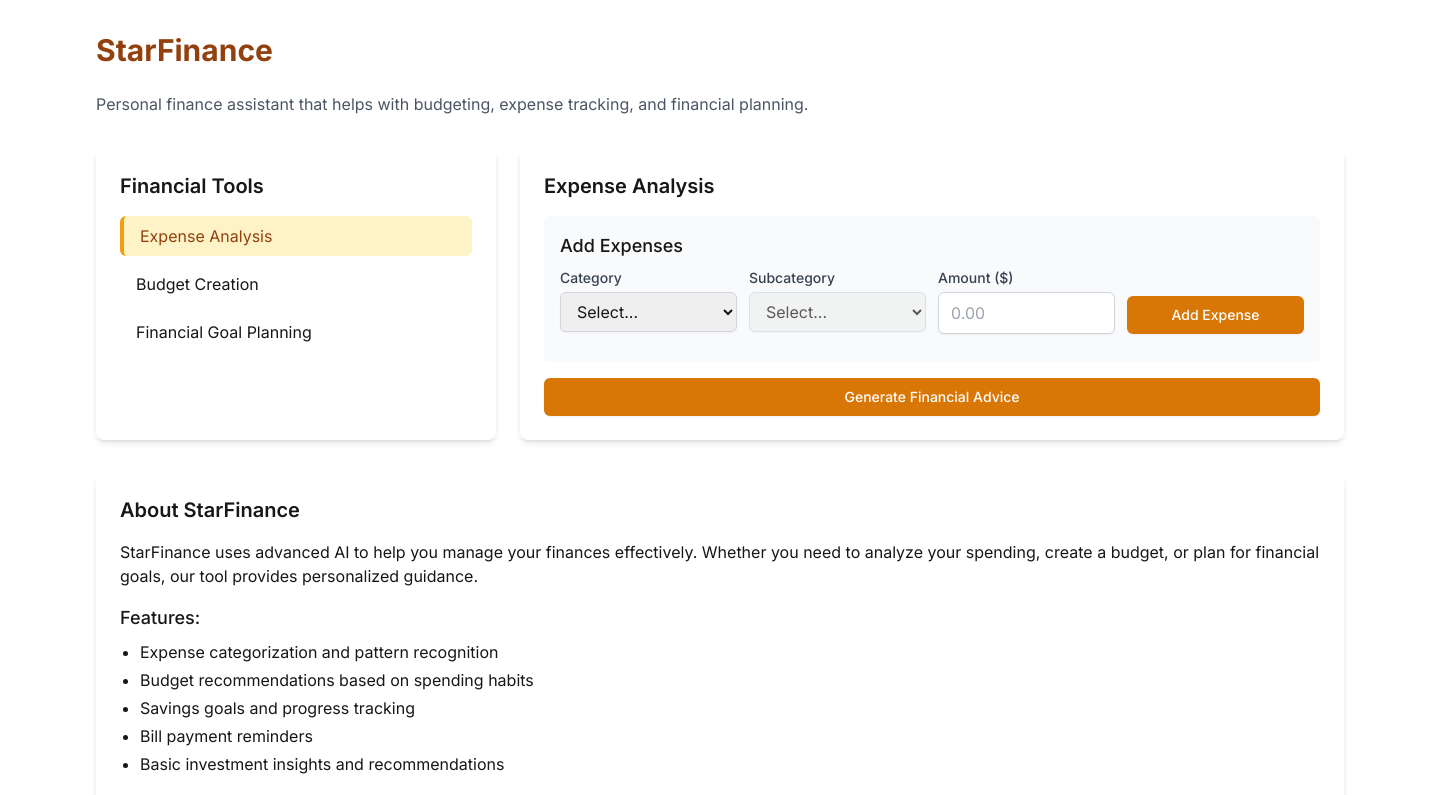
Scenario: StarFinance Component › adds and removes expenses
// Select a category
Select "Food" in the dropdown labelled "Category" at (648, 312), box [560,292,737,332]
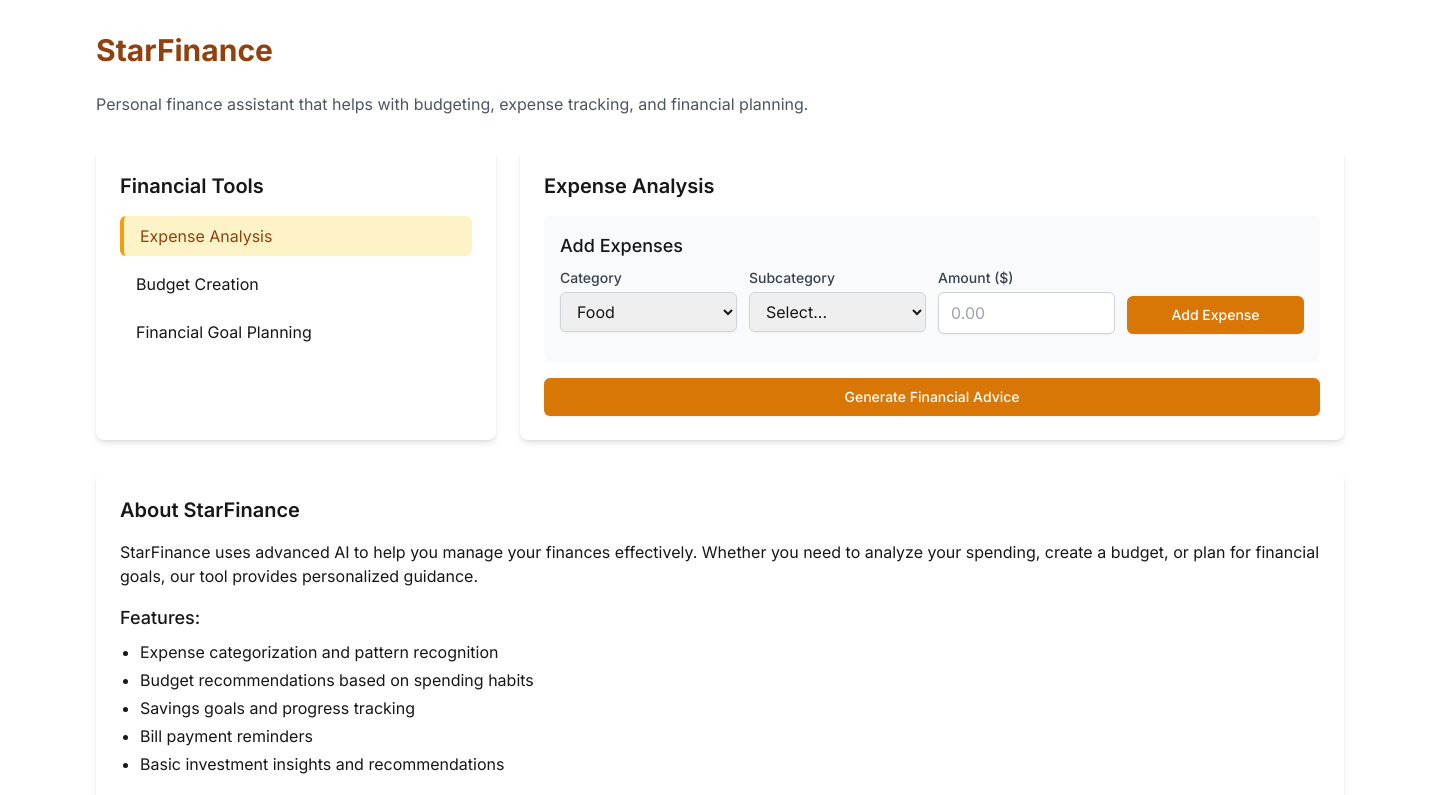
// Enter an amount
Type "50" into the number field labelled "Amount ($)" at (1026, 313), box [938,292,1115,334]
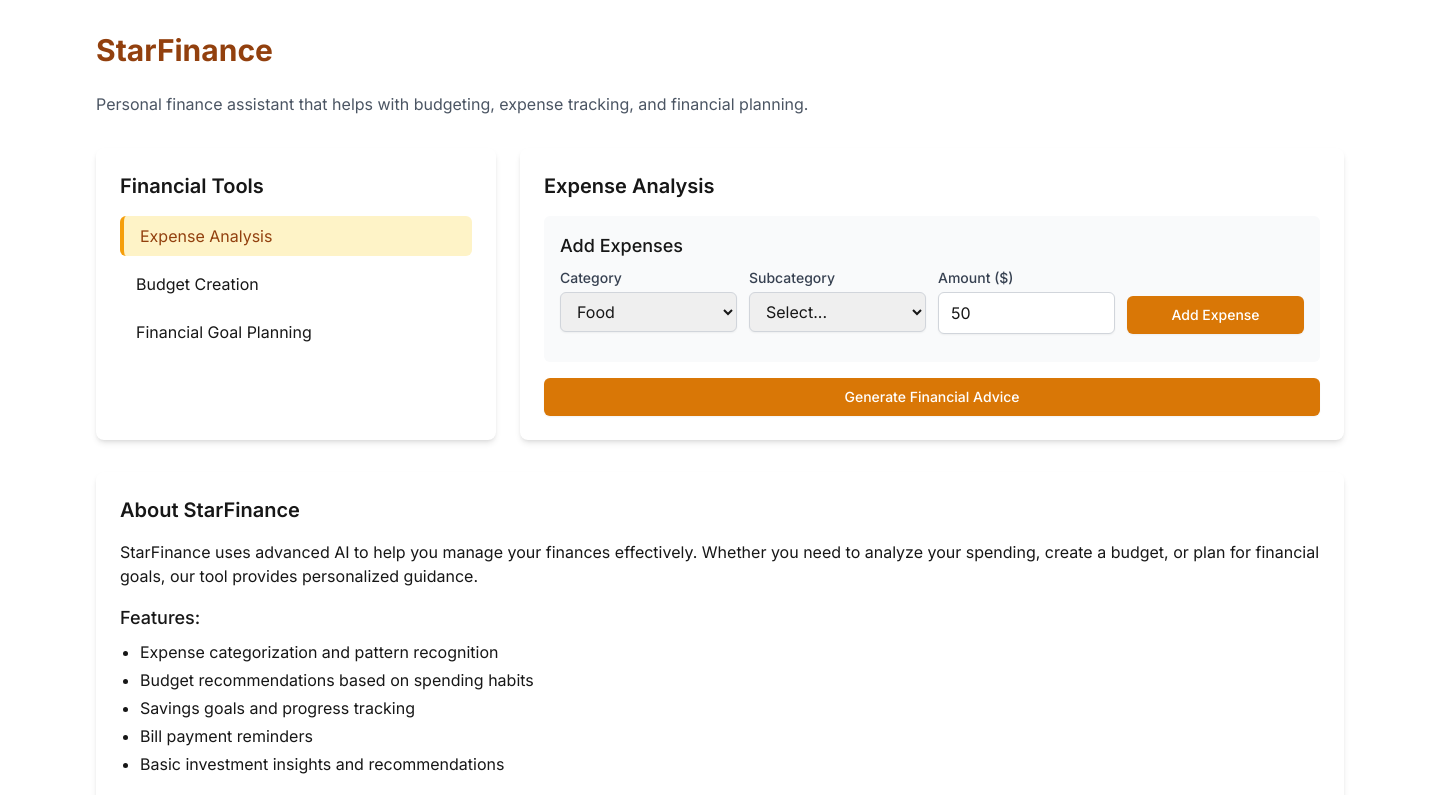
// Add the expense
Click the button "Add Expense" at (1216, 315), box [1127,296,1304,334]
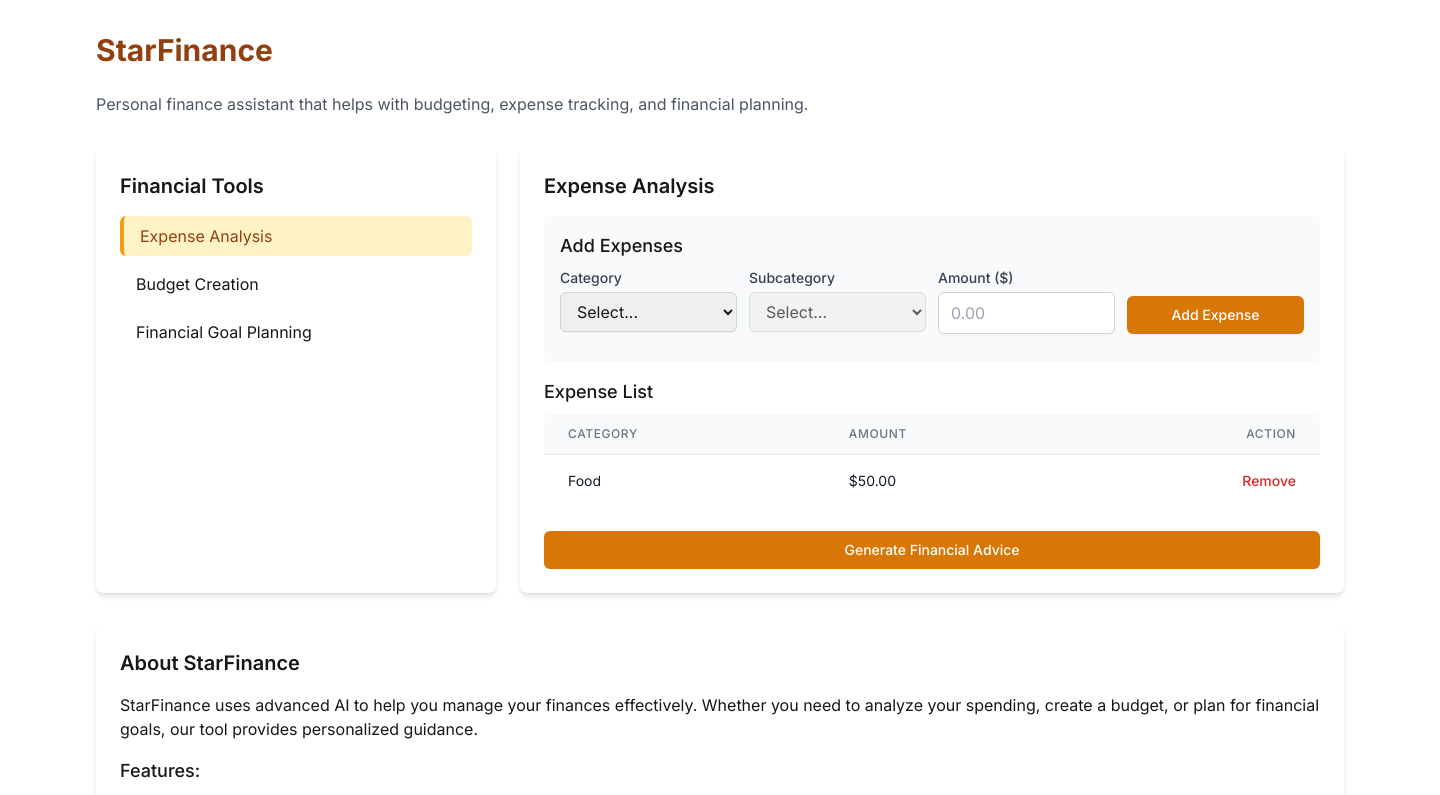
Now the row "Food $50.00 Remove" is shown, box [544,454,1320,507]
// Remove the expense - find the remove button within the row
Click the button "Remove" at (1269, 481), box [1242,471,1296,491]
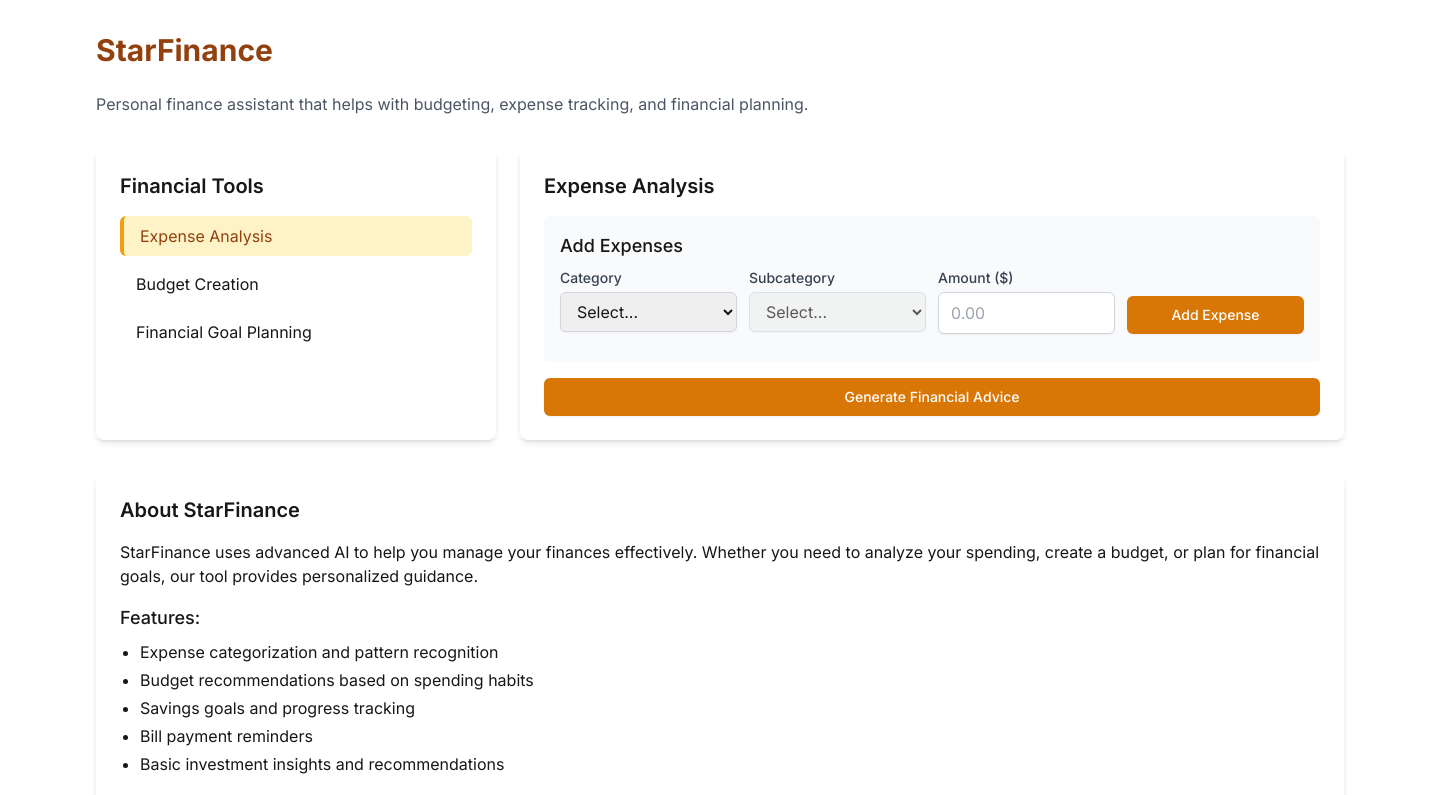
Now the text "$50.00" is gone
